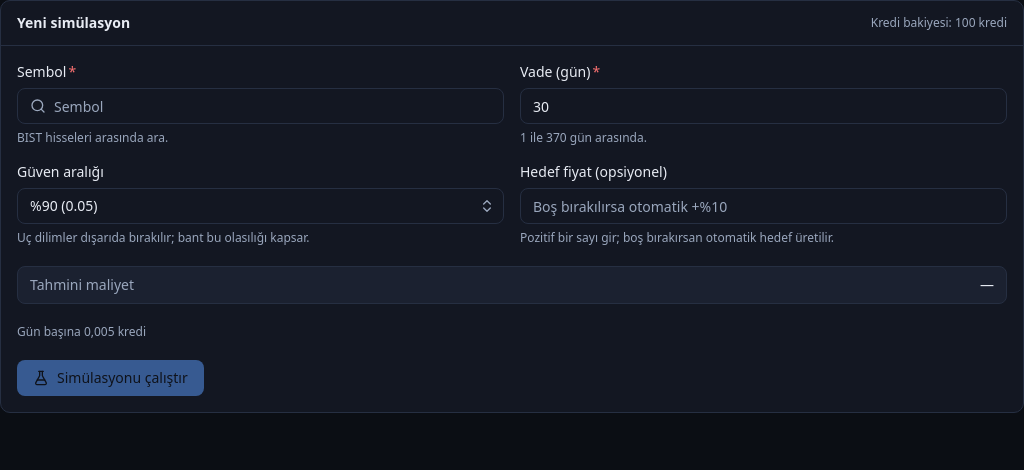
Test: SimulationForm — maliyet ve kredi (U-03) › tahmini maliyeti estimate-cost yanıtından gösterir
expect the text with test id "estimated-cost" reads "—": met, box [980,275,994,294]
Type "AS" into the dropdown named "Hisse ara" at coordinates (260, 106), box [18,89,503,123]
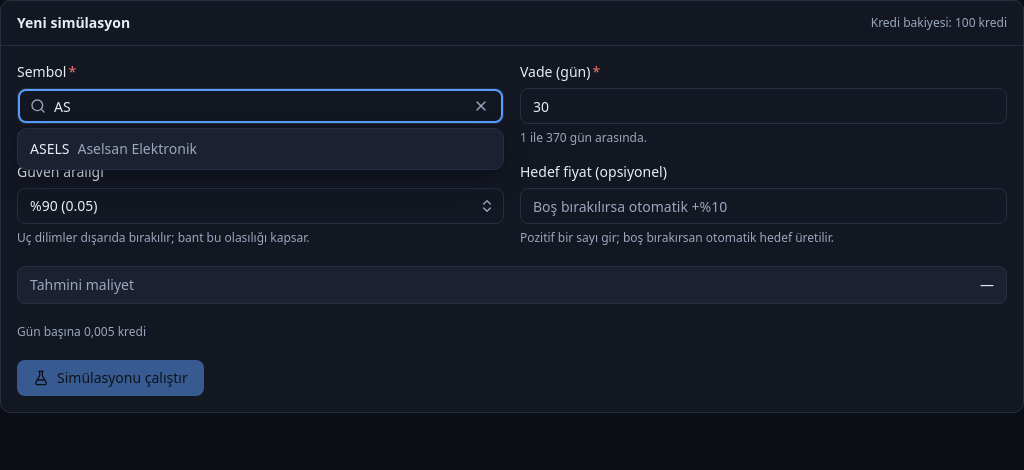
expect the option "ASELS Aselsan Elektronik" is shown: met, box [30,139,197,158]
Press Arrowdown
Press Enter
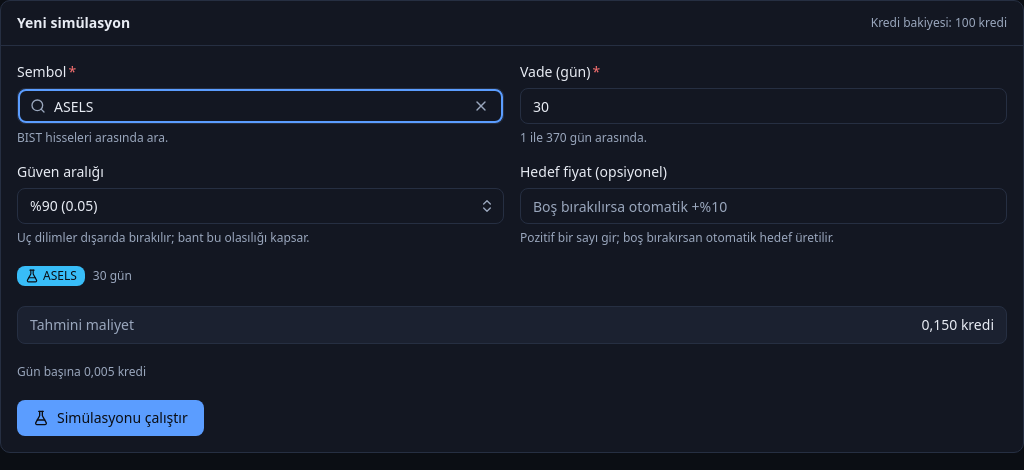
expect the text with test id "estimated-cost" shows "0,150": met, box [922,315,994,334]
